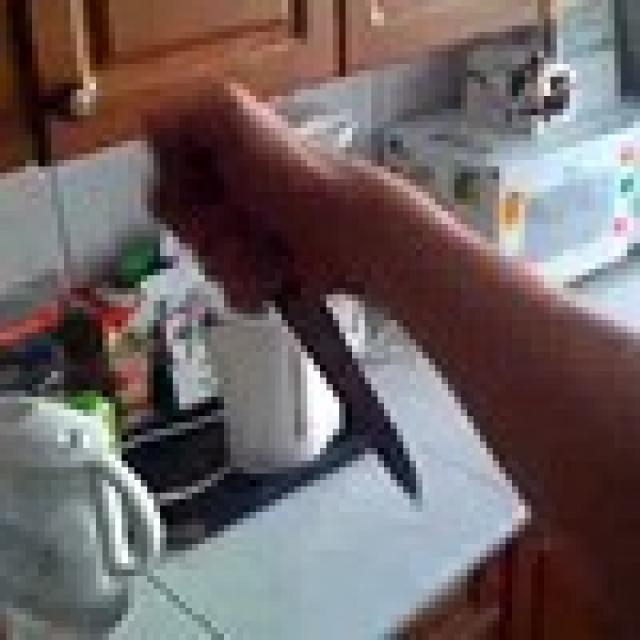Knife: (180, 128, 422, 512)
